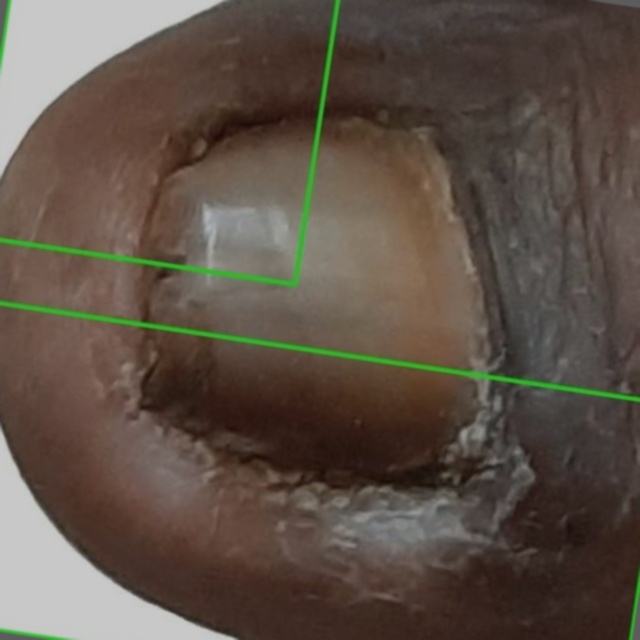Seborrheic Dermatitis: (0, 303, 639, 639), (0, 0, 337, 284)
